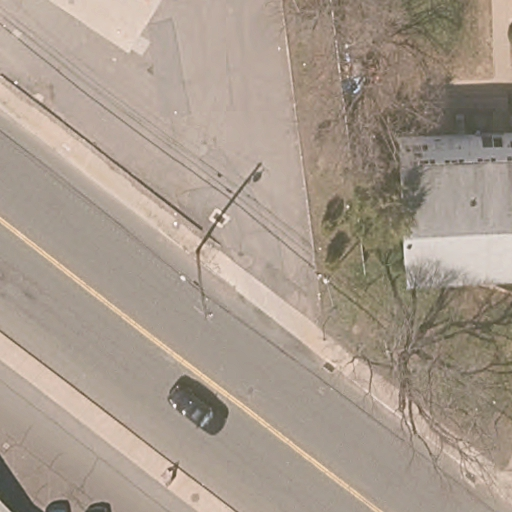DT: (178, 250, 216, 322)
